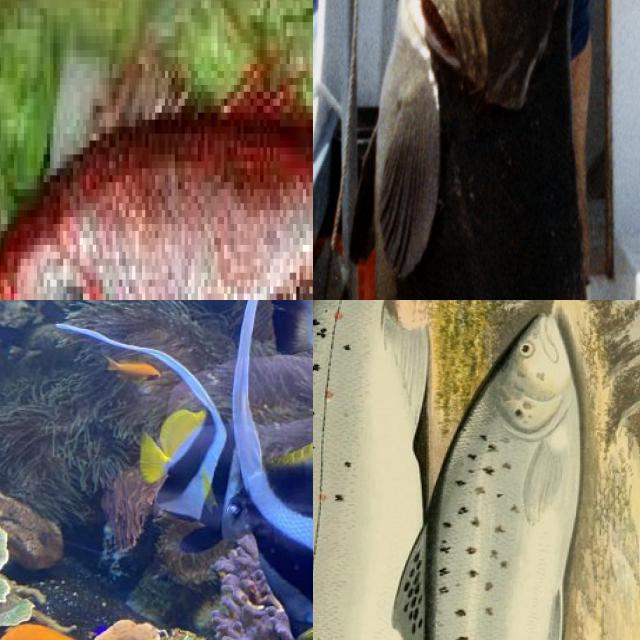fish: (0, 0, 313, 300), (375, 300, 591, 640), (366, 0, 592, 300)
